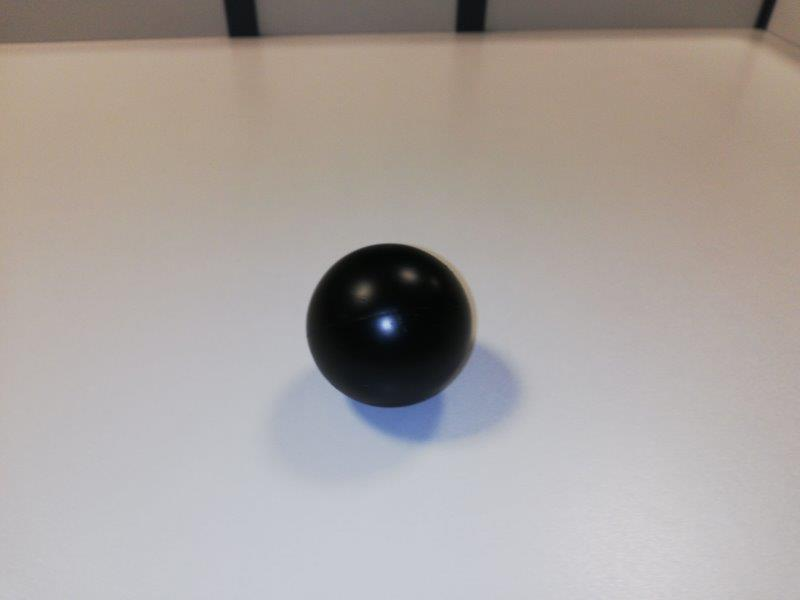nera: (306, 243, 475, 409)
